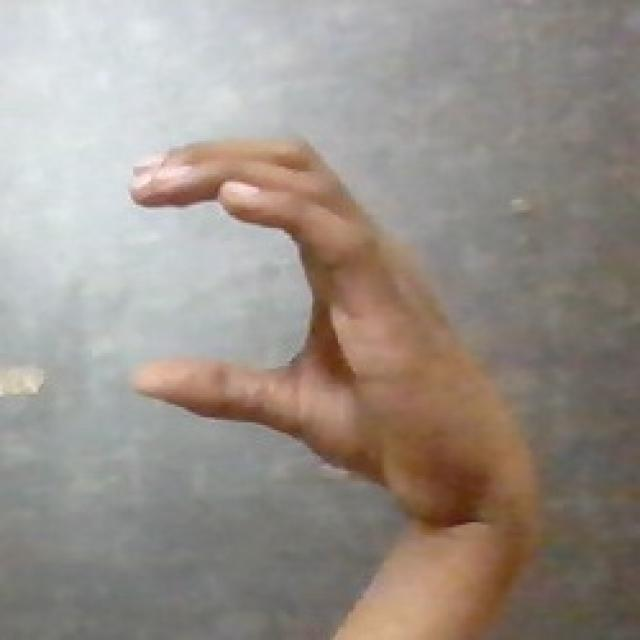Alphabet-C: (128, 128, 487, 474)
